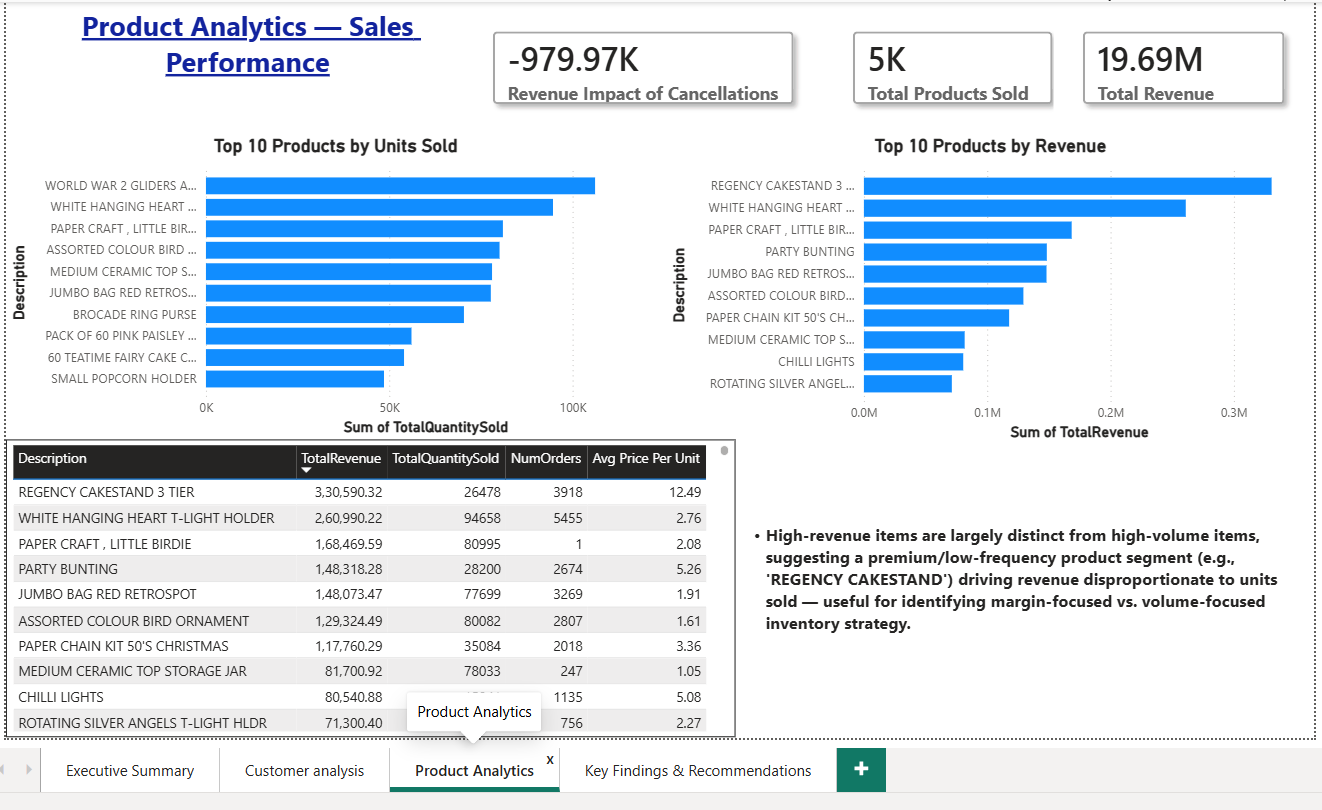

What the dashboard file says about the page in this screenshot:
{"tool":"powerbi","page":{"name":"Product Analytics","canvas":[1280,720],"ordinal":2},"visuals":[{"type":"textbox","box":[0,0,472.8,105.2],"z":0},{"type":"cardVisual","fields":{"Data":["Measures_Table.Total Products Sold"]},"box":[799.7,0,253.1,129.6],"z":1000},{"type":"cardVisual","fields":{"Data":["Measures_Table.Total Revenue"]},"box":[1024.7,0,255.6,129.6],"z":2000},{"type":"barChart","title":"Top 10 Products by Revenue","fields":{"Category":["vw_TopProducts.Description"],"Y":["Sum(vw_TopProducts.TotalRevenue)"]},"box":[645.2,129.3,635.1,304.2],"z":3000},{"type":"barChart","title":"Top 10 Products by Units Sold","fields":{"Category":["vw_TopProducts.Description"],"Y":["Sum(vw_TopProducts.TotalQuantitySold)"]},"box":[0,129.3,645.2,299.1],"z":4000},{"type":"tableEx","fields":{"Values":["vw_TopProducts.Description","vw_TopProducts.TotalRevenue","vw_TopProducts.TotalQuantitySold","vw_TopProducts.NumOrders","Measures_Table.Avg Price Per Unit"]},"box":[0,428.4,713.6,291.5],"z":5000},{"type":"cardVisual","fields":{"Data":["Sum(Query1.CancelledRevenue)"]},"box":[447.5,0,352.4,129.3],"z":6000},{"type":"textbox","box":[713.6,433.5,566.6,286.5],"z":7000}]}

Visuals, with their boxes on the page's 1280x720 design canvas (x1, y1, x2, y2). These are canvas units, not pixel positions in the 1322x810 screenshot, which may show the page scaled, cropped or inside an application window:
textbox: rect(0, 0, 473, 105)
cardVisual - Measures_Table.Total Products Sold: rect(800, 0, 1053, 130)
cardVisual - Measures_Table.Total Revenue: rect(1025, 0, 1280, 130)
"Top 10 Products by Revenue" barChart: rect(645, 129, 1280, 434)
"Top 10 Products by Units Sold" barChart: rect(0, 129, 645, 428)
tableEx - vw_TopProducts.Description x vw_TopProducts.TotalRevenue: rect(0, 428, 714, 720)
cardVisual - Sum(Query1.CancelledRevenue): rect(448, 0, 800, 129)
textbox: rect(714, 434, 1280, 720)
